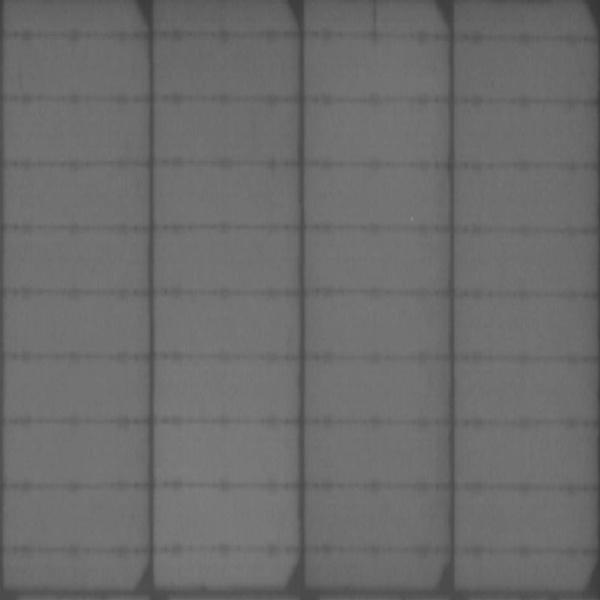scratch: (370, 1, 382, 48)
